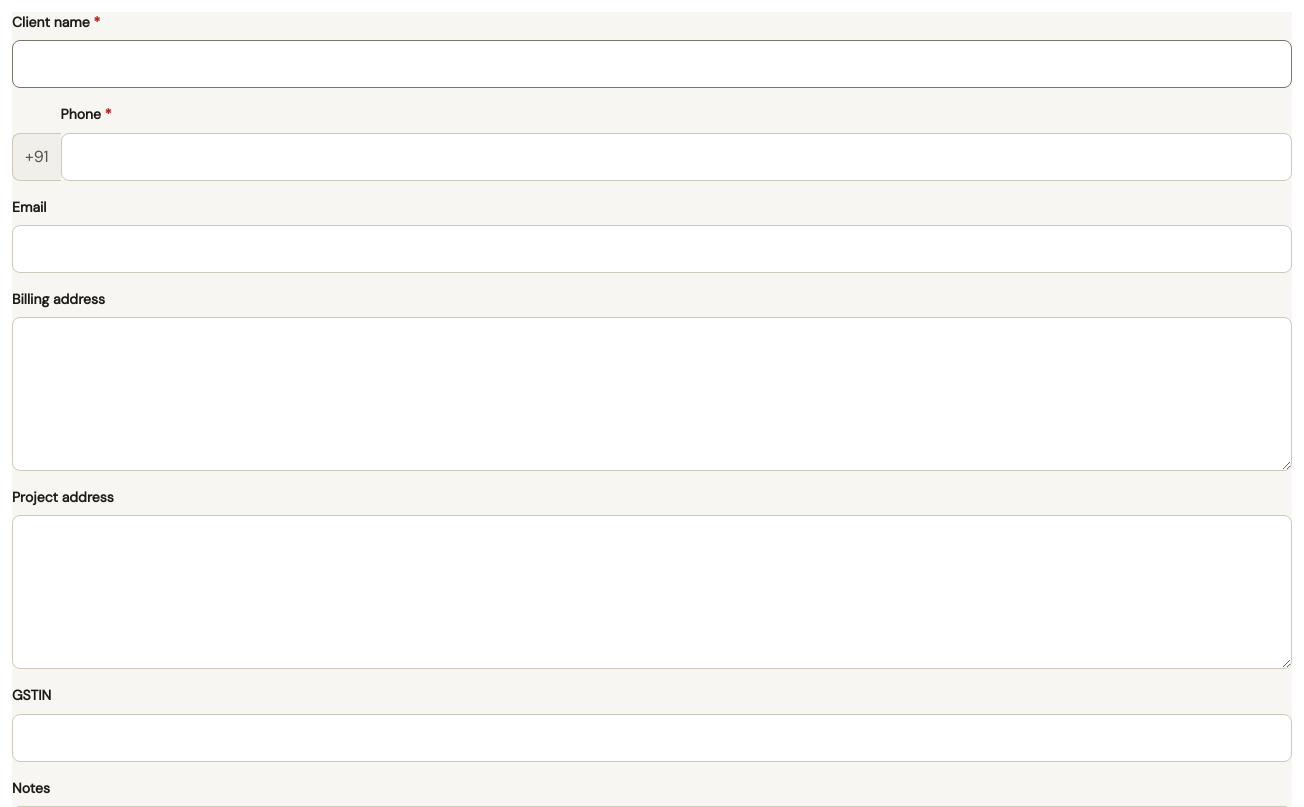
Scenario: Client form — phone field › cleans a pasted +91 number into ten grouped digits
# The acceptance case from the brief, pasted rather than typed.
Click the field labelled "Phone *": (676, 157) [61, 133, 1292, 181]
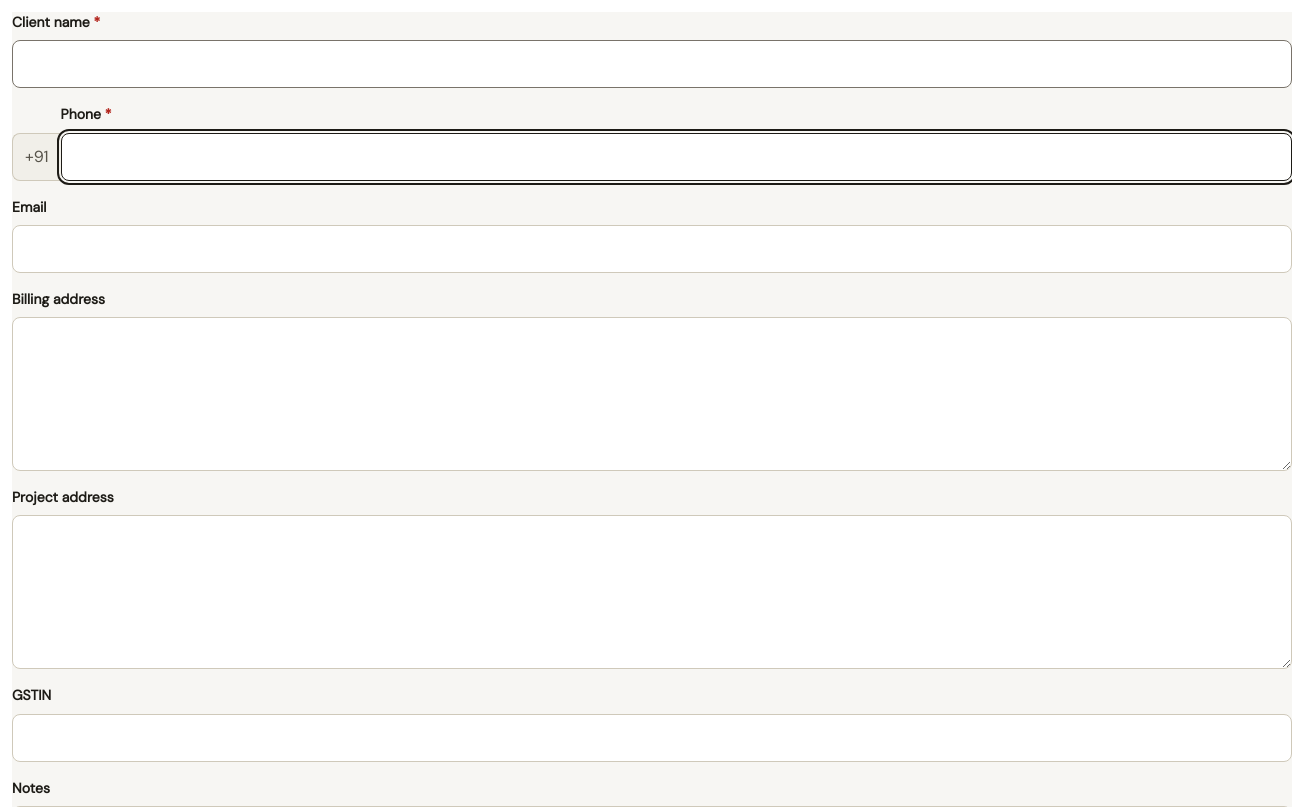
Type keys "+91 90000 12345"
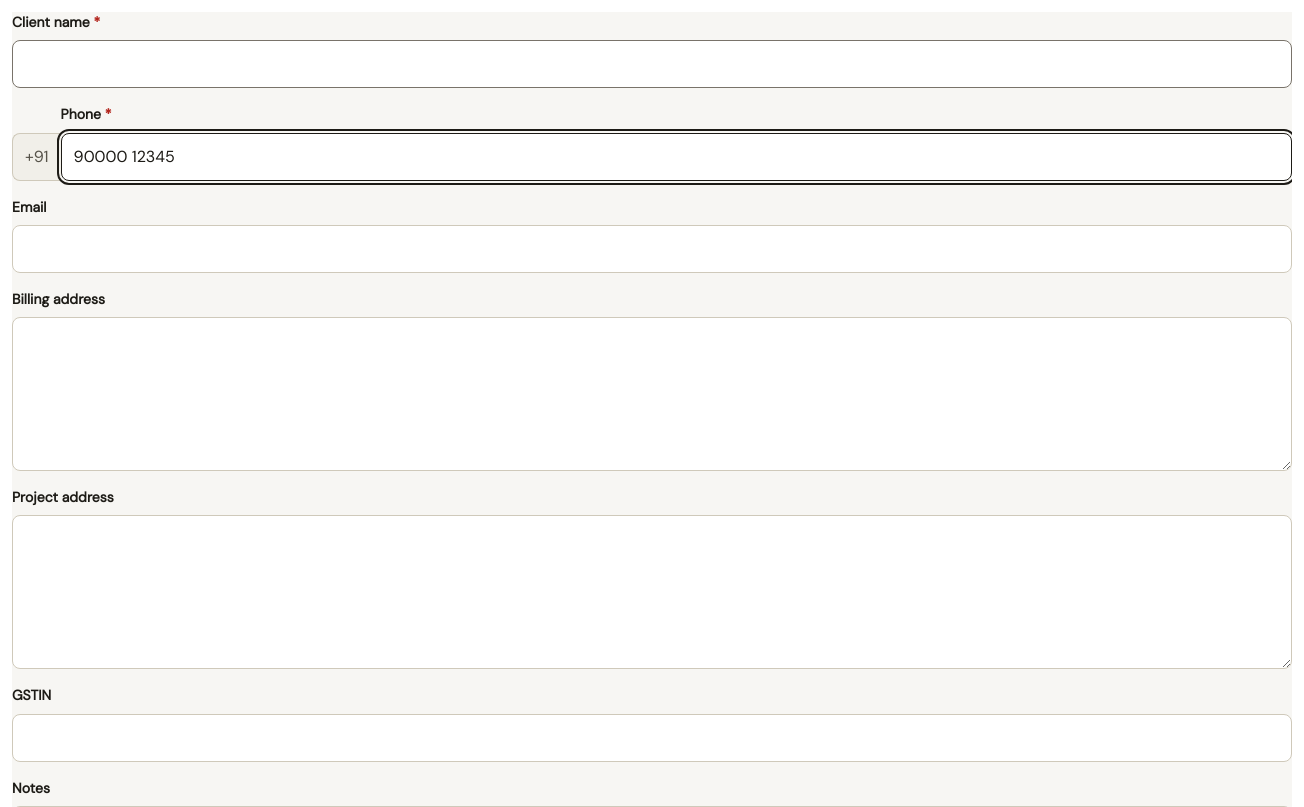
Check: the field labelled "Phone *" holds "90000 12345", box [61, 133, 1292, 181]
